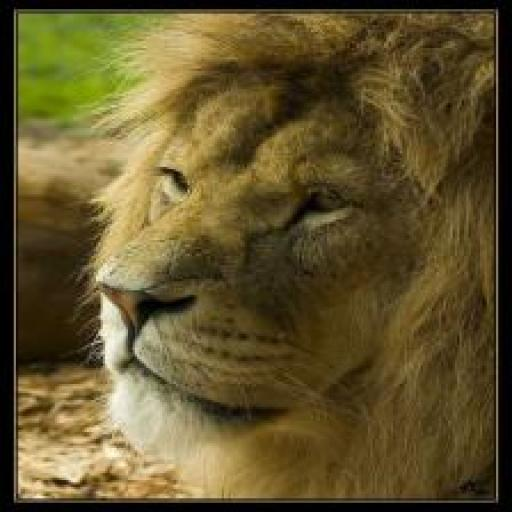lion: (39, 14, 499, 500)
